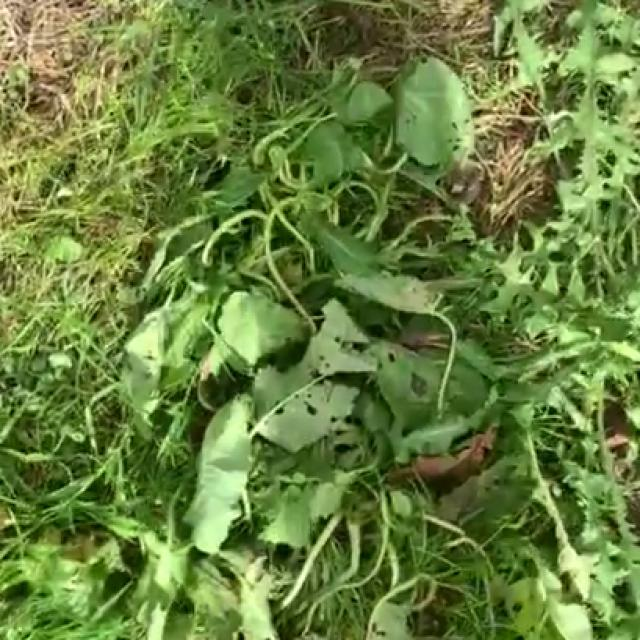organic waste: (61, 27, 545, 355), (130, 222, 554, 543)
